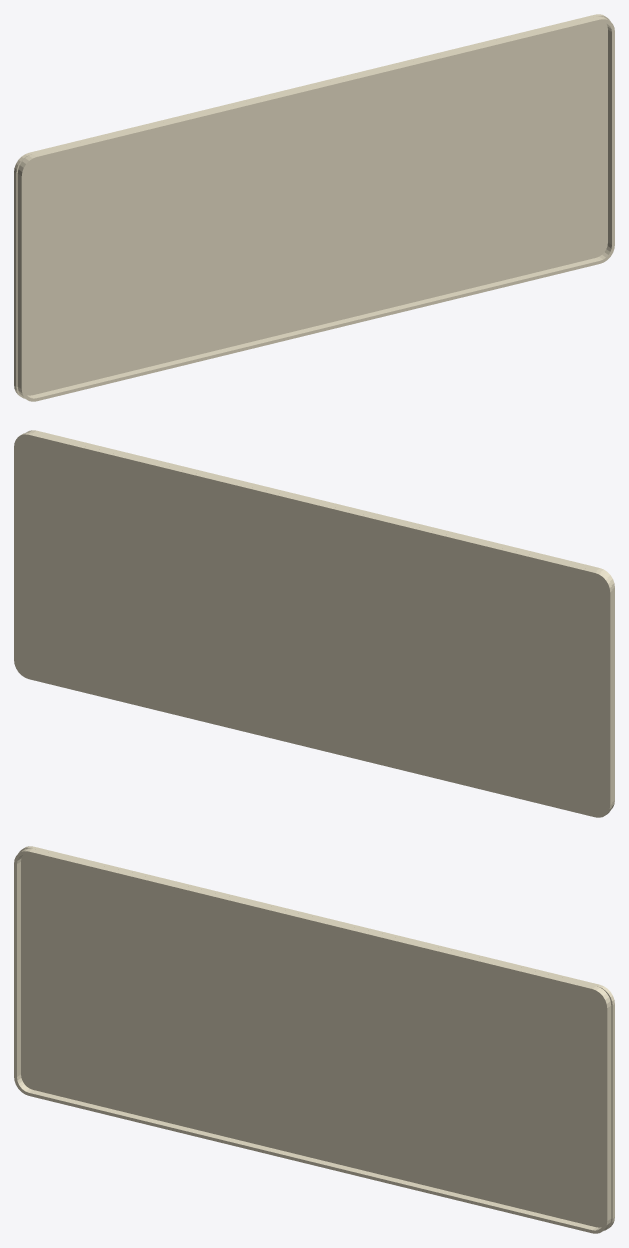
File: tgPanel_klc_l2_paint.glb
3 renders of one model, top to bottom at view 1: azimuth 30°, elevation 25°; view 2: azimuth 150°, elevation 25°; view 3: azimuth 330°, elevation 25°, orthographic.
Parts seen in each view (by area): view 1: panel.031, lip6.004, lip20.004, lip13.004, lip27.004; view 2: panel.031, lip6.004, lip13.004; view 3: panel.031, lip6.004, lip20.004, lip27.004, lip13.004.
Boxes of the visible parts, x1,y1,x2,y2 form: panel.031: (14, 14, 610, 398); lip6.004: (33, 16, 599, 159); lip20.004: (33, 258, 599, 401); lip13.004: (17, 173, 24, 389); lip27.004: (608, 30, 614, 244); panel.031: (14, 432, 612, 817); lip6.004: (33, 430, 599, 570); lip13.004: (612, 587, 614, 801); panel.031: (18, 846, 614, 1230); lip6.004: (29, 848, 595, 991); lip20.004: (29, 1090, 595, 1233); lip27.004: (604, 1005, 611, 1221); lip13.004: (14, 862, 20, 1076).
Size of the model in its own units: 1.2 by 0.47 by 0.022.
